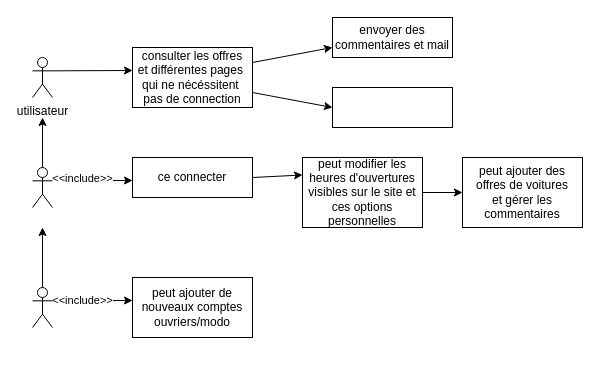
Image size: 600x366. Some labels were removed from this diagram. Here are the shapes that lost their labels. From the top down, the centre of each, then its label:
At point (392, 107): "voir les coordonées du garage et heures d'ouvertures".
At point (42, 187): "ouvrier".
At point (42, 307): "modo".
